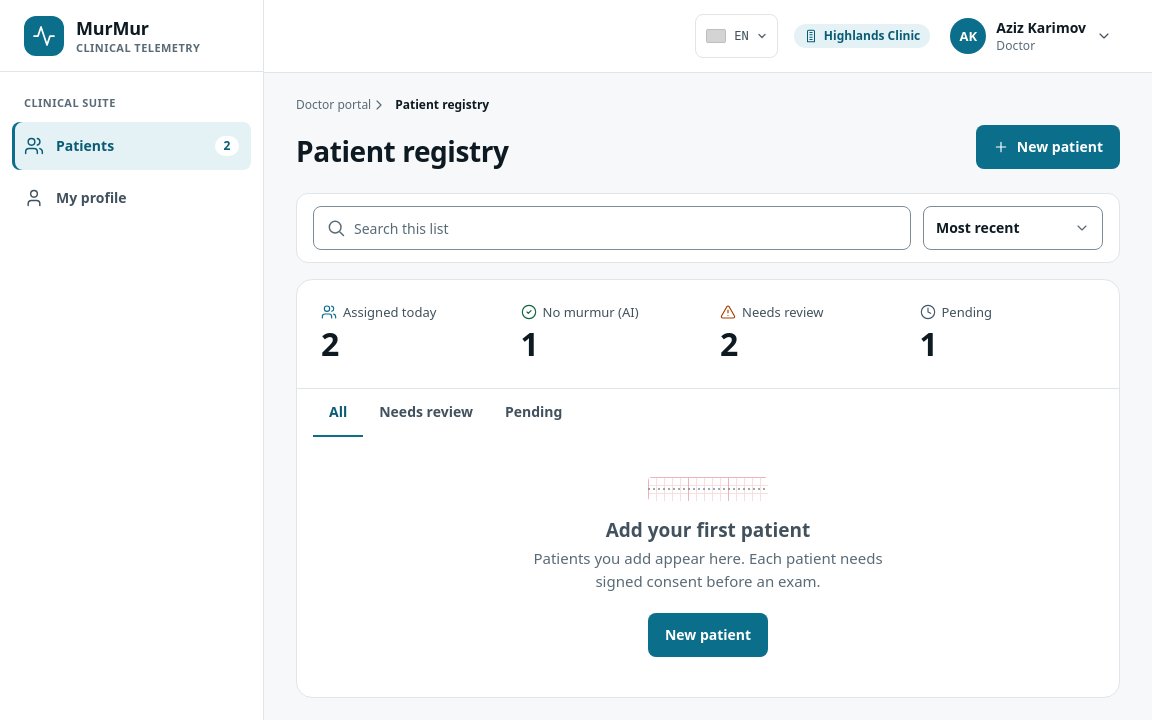
Test: patient registry › search goes into the URL after a pause and is sent to the API
This screenshot has width=1152, height=720.
Type "ali" into the search field labelled "Search this list".
click(626, 228); type("ali")  # box [354,207,898,249]
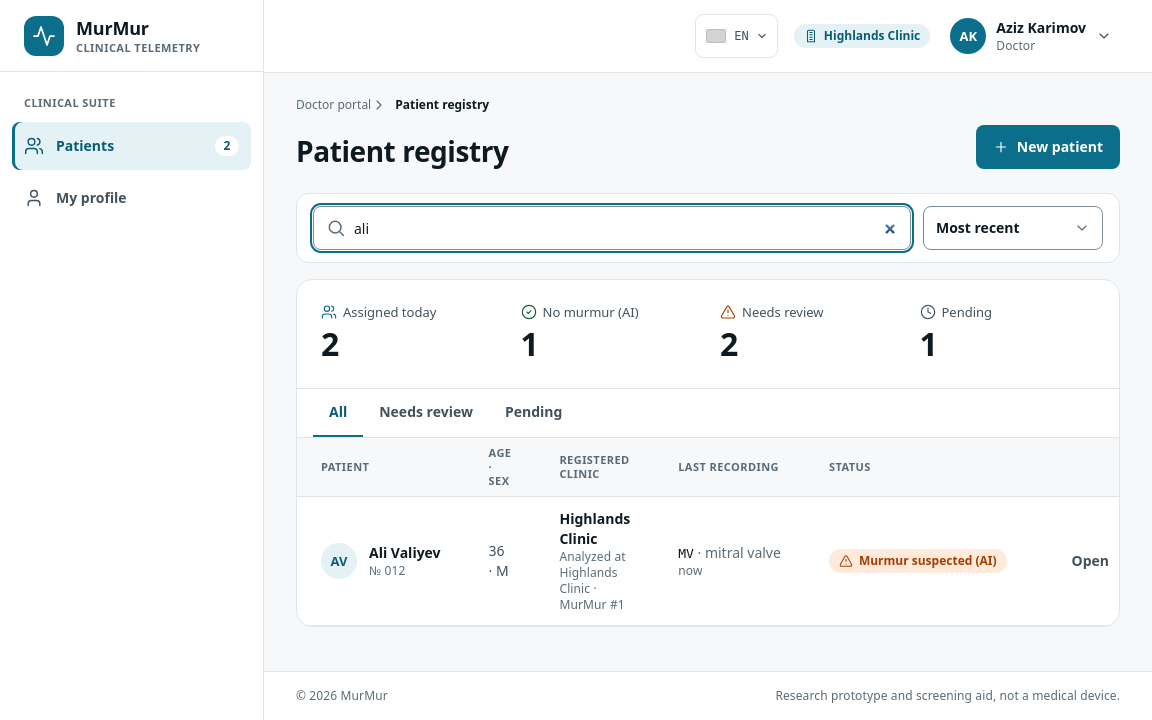
Expected: the text "Ali Valiyev" is shown, [369,543,441,563]
